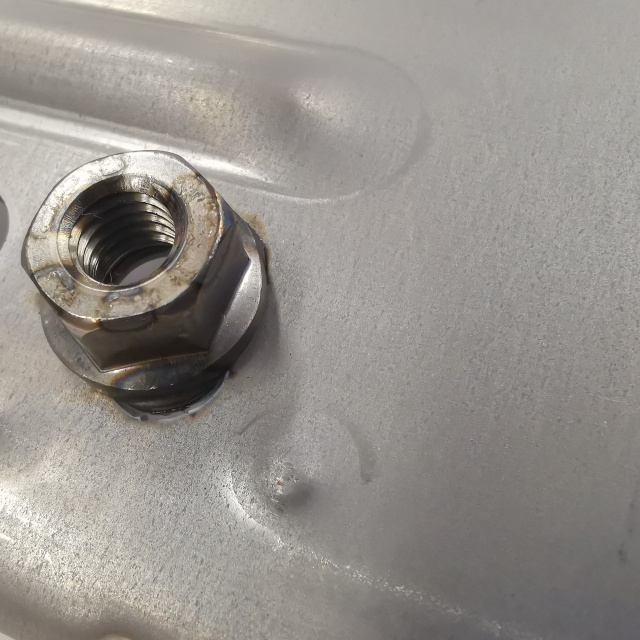dog: (16, 145, 275, 419)
